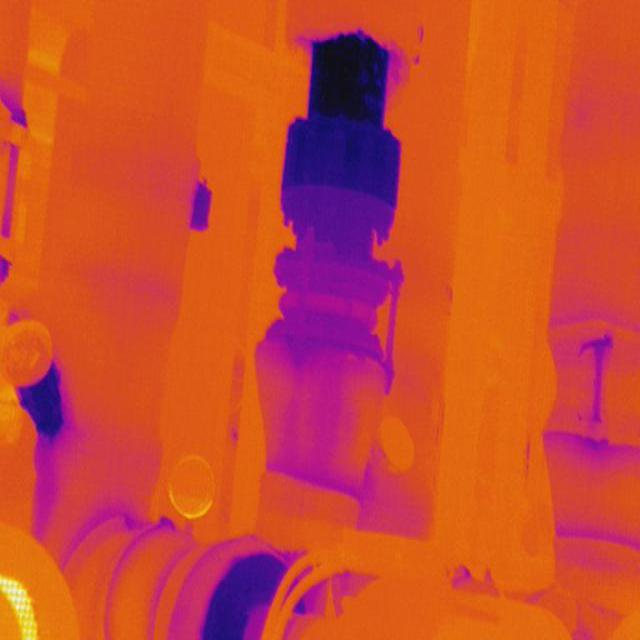leakage: (13, 365, 68, 440)
